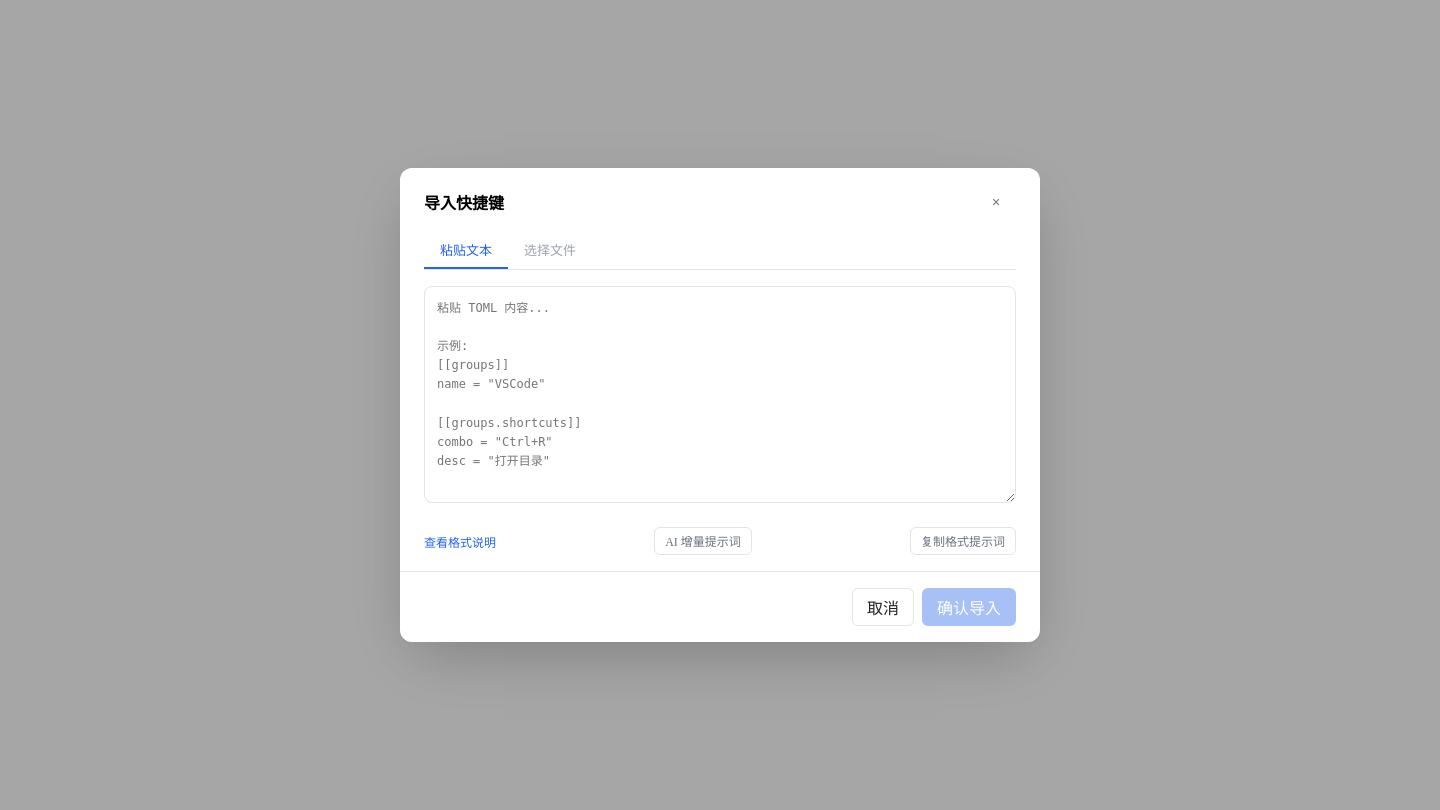
Test: ImportModal: AI incremental prompt button › clicking shows "已复制" feedback
Click the button "AI 增量提示词": (703, 541) [654,527,752,555]
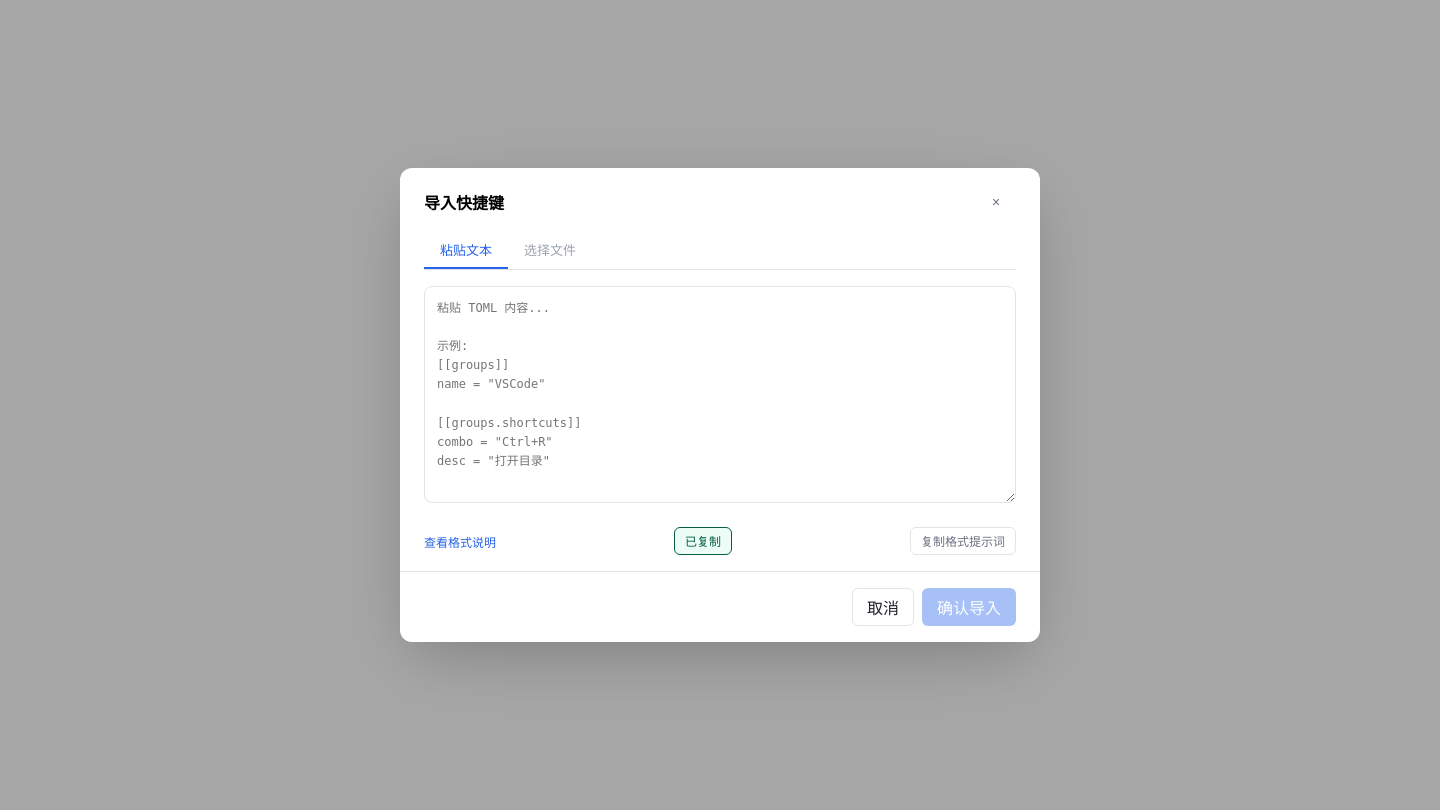
Check: the button "已复制" is shown, box [674,527,732,555]
